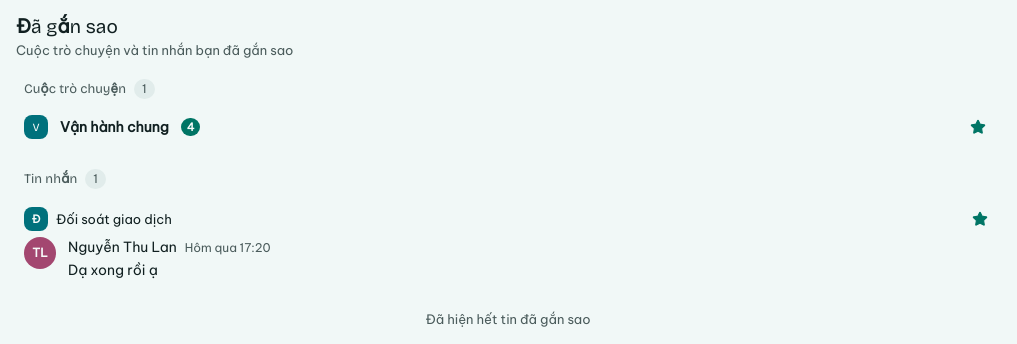
StarredView › unstars a message from its star button, which sits outside the link, and offers Hoàn tác
The image size is (1017, 344).
What coordinates should you click on to do the following:
click the button named "Gắn sao tin của Nguyễn Thu Lan"
I would click on:
 (980, 219)
Its box is [964,203,996,235].
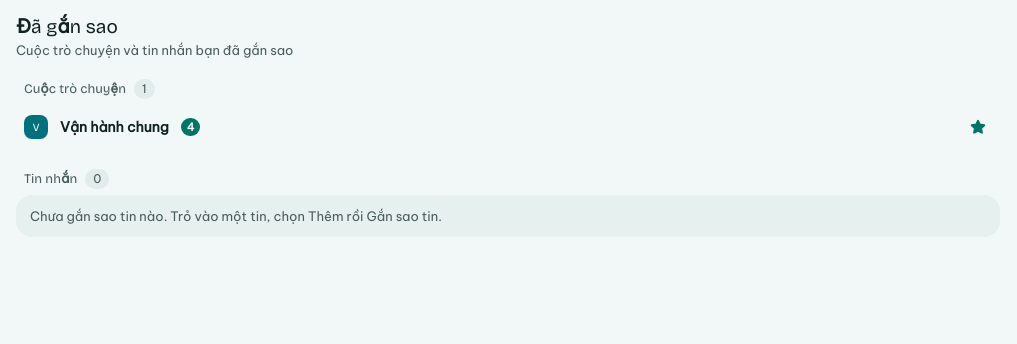
Result: the text "Chưa gắn sao tin nào. Trỏ vào một tin, chọn Thêm rồi Gắn sao tin." is shown at [16,195,1000,237]
